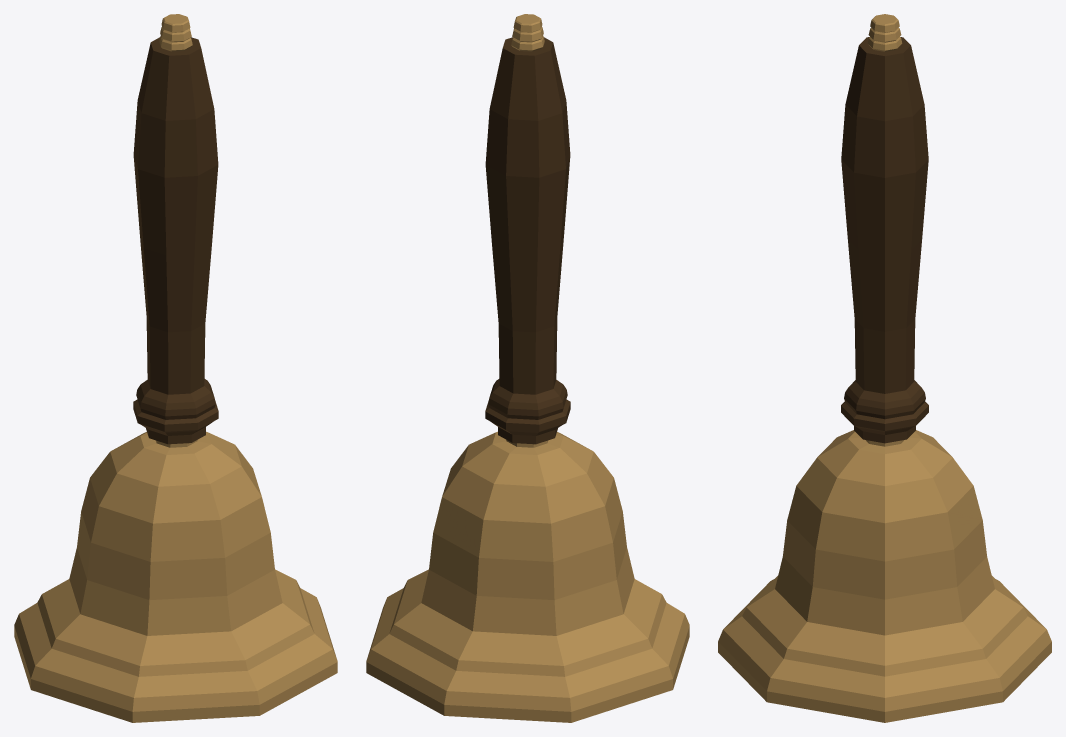
File: chuong-tay.glb
3 views of the same model, side by side, from view 1: azimuth 30°, elevation 25°; view 2: azimuth 150°, elevation 25°; view 3: azimuth 270°, elevation 25° (orthographic).
Parts seen in each view (by area): view 1: chuong-tay; view 2: chuong-tay; view 3: chuong-tay.
Boxes of the visible parts, box(x1,y1,x2,y2) form: chuong-tay: box(14, 14, 337, 722); chuong-tay: box(366, 14, 689, 722); chuong-tay: box(718, 14, 1051, 722).
Size of the model in its own units: 0.4443 by 0.93 by 0.4443.
